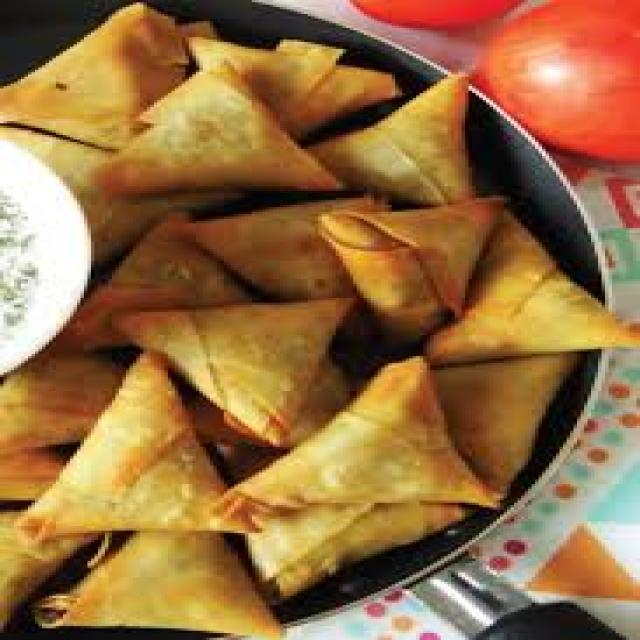SAMOSA: (4, 201, 637, 638), (13, 5, 474, 197), (319, 70, 478, 199)
